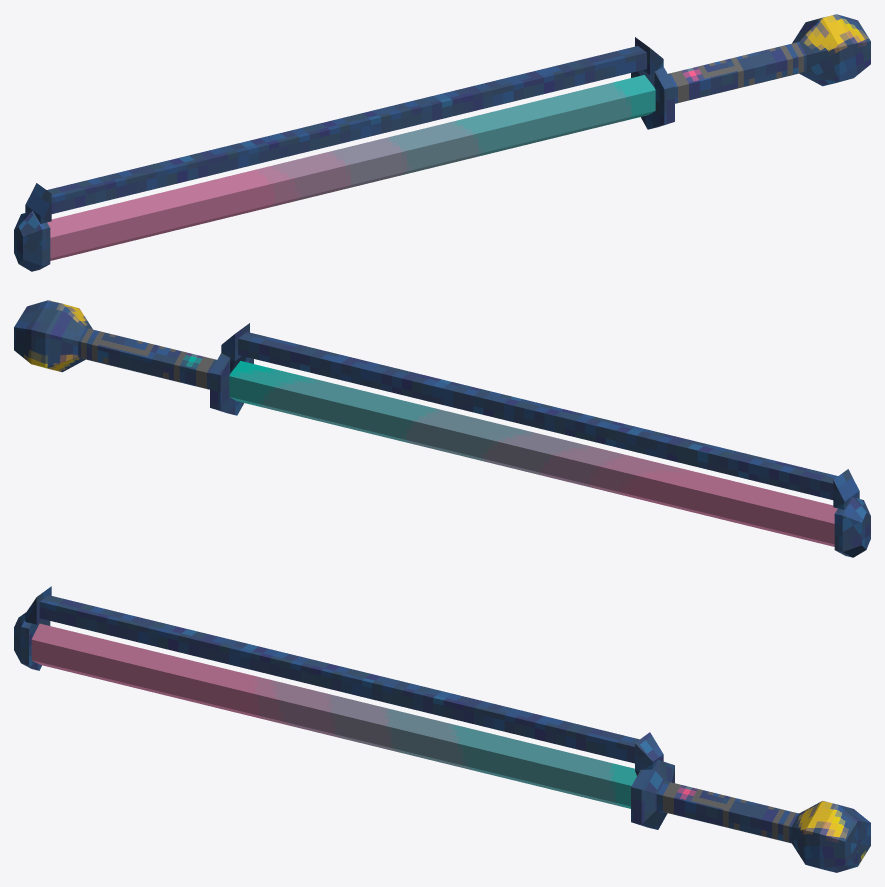
Rendered from LIGHT_SABER1.fbx.
The picture shows the model from 3 angles, top to bottom: view 1: azimuth 30°, elevation 25°; view 2: azimuth 150°, elevation 25°; view 3: azimuth 330°, elevation 25°; orthographic projection.
Visible parts, largest first — view 1: blade, handle, guard; view 2: blade, handle, guard; view 3: blade, handle, guard.
Part boxes in pixels (<box>): blade: <box>14,37,663,271</box>; handle: <box>668,14,870,103</box>; guard: <box>631,67,674,129</box>; blade: <box>221,323,870,557</box>; handle: <box>14,300,216,389</box>; guard: <box>210,353,253,415</box>; blade: <box>14,586,663,808</box>; handle: <box>656,780,870,872</box>; guard: <box>631,760,674,829</box>.
Size of the model in its own units: 69.4 by 7.01 by 4.89.
1 material, 1 textured.
